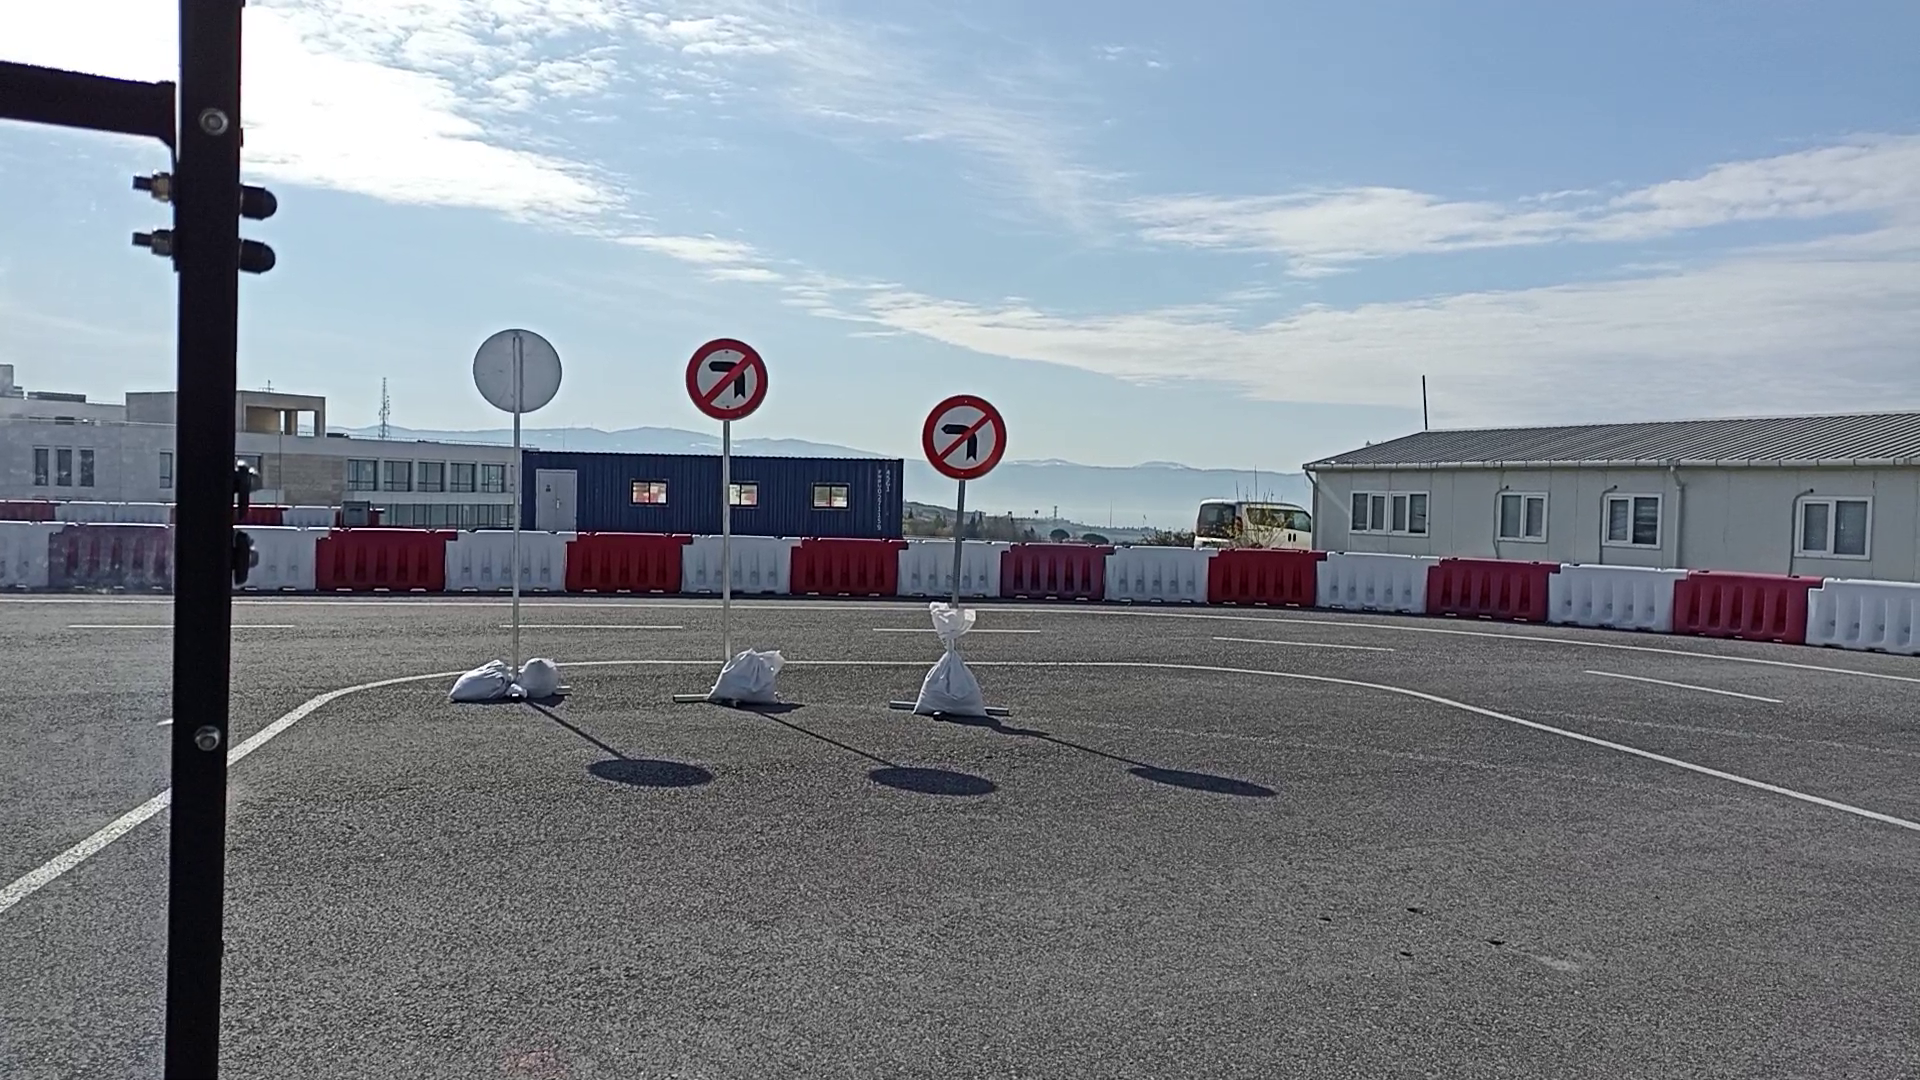noleft: (920, 393, 1007, 481), (684, 338, 770, 423)
